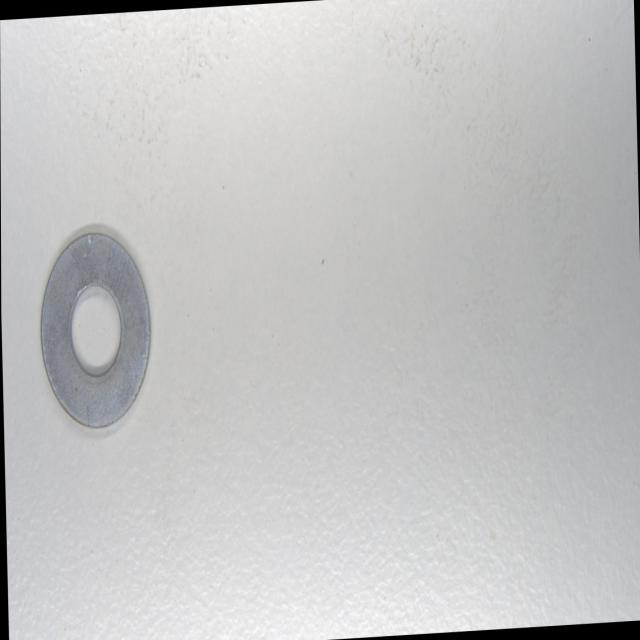washer: (35, 221, 159, 444)
